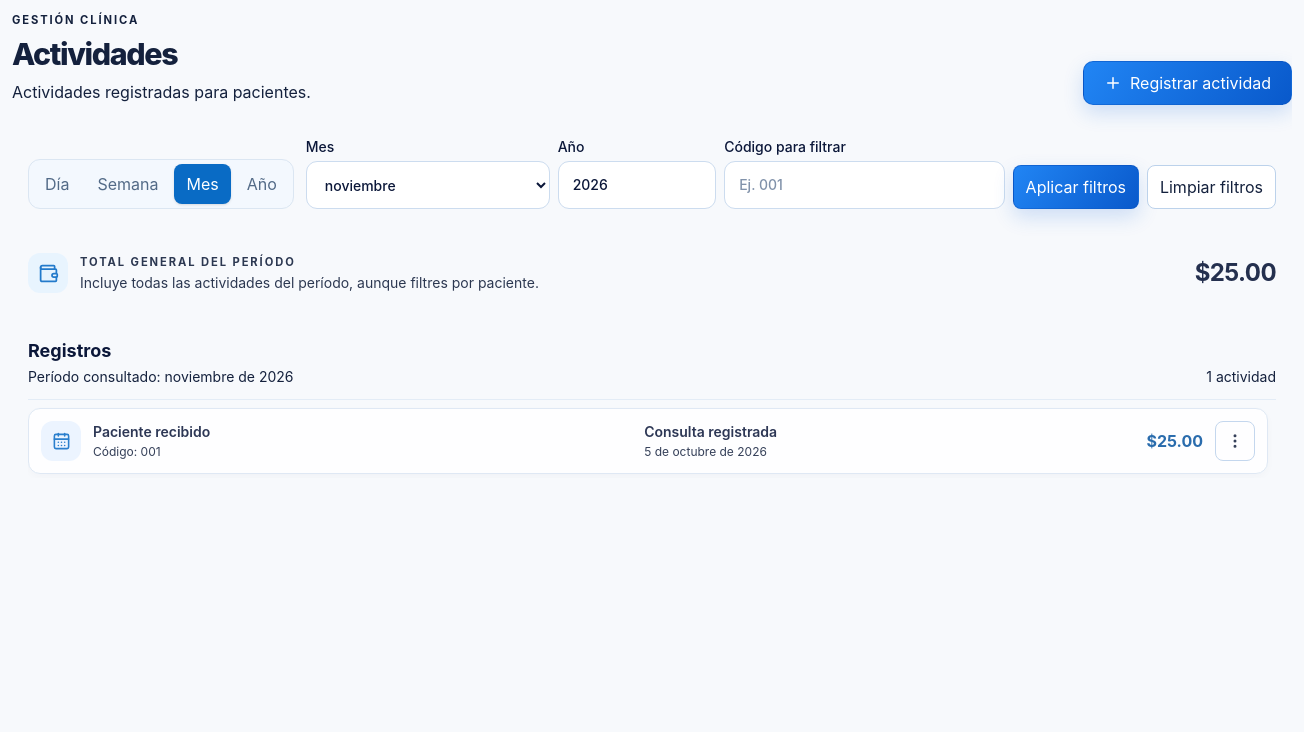
it: ActivitiesPage › opens the doctor action menu by keyboard and closes it with Escape
The image size is (1304, 732).
Expected: the text "Consulta registrada" is shown, [644,423,777,440]
Click the button named "Opciones de actividad para Paciente recibido".
click(1235, 441)  # box [1215,421,1255,461]
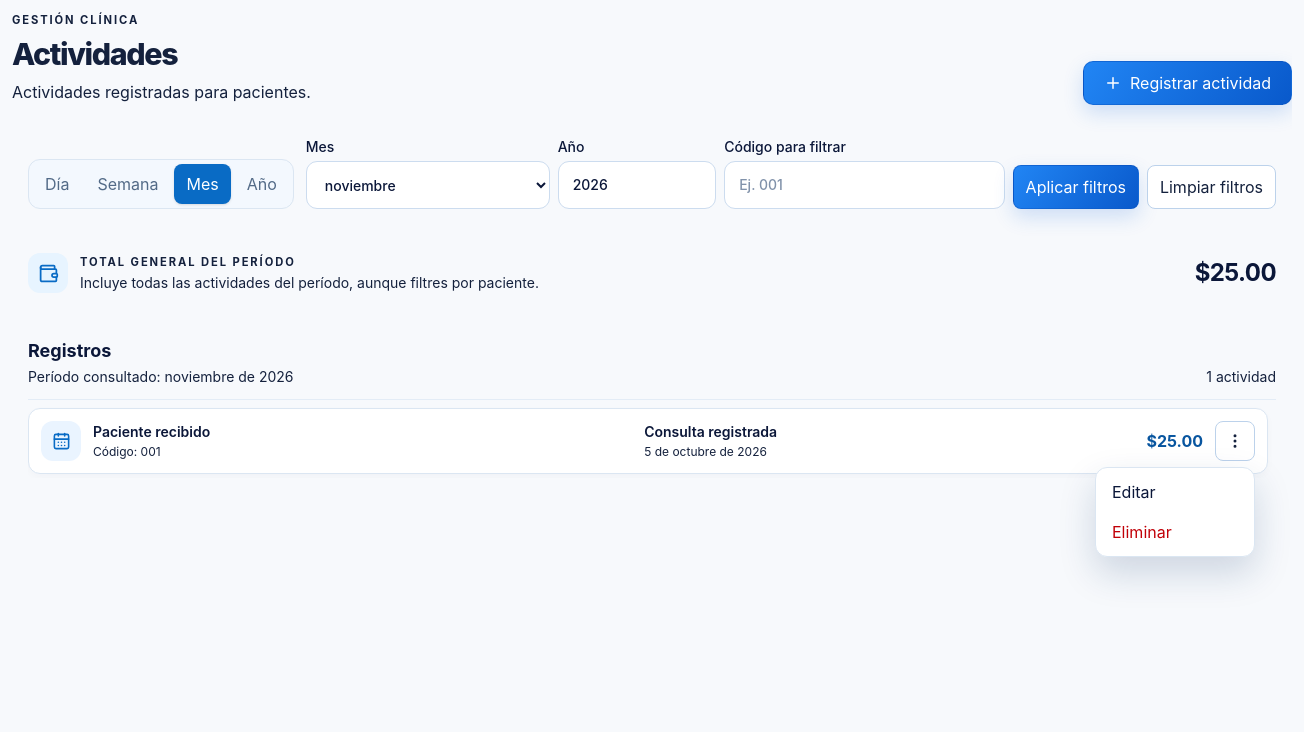
Press ArrowDown in the button named "Opciones de actividad para Paciente recibido", box [1215,421,1255,461]
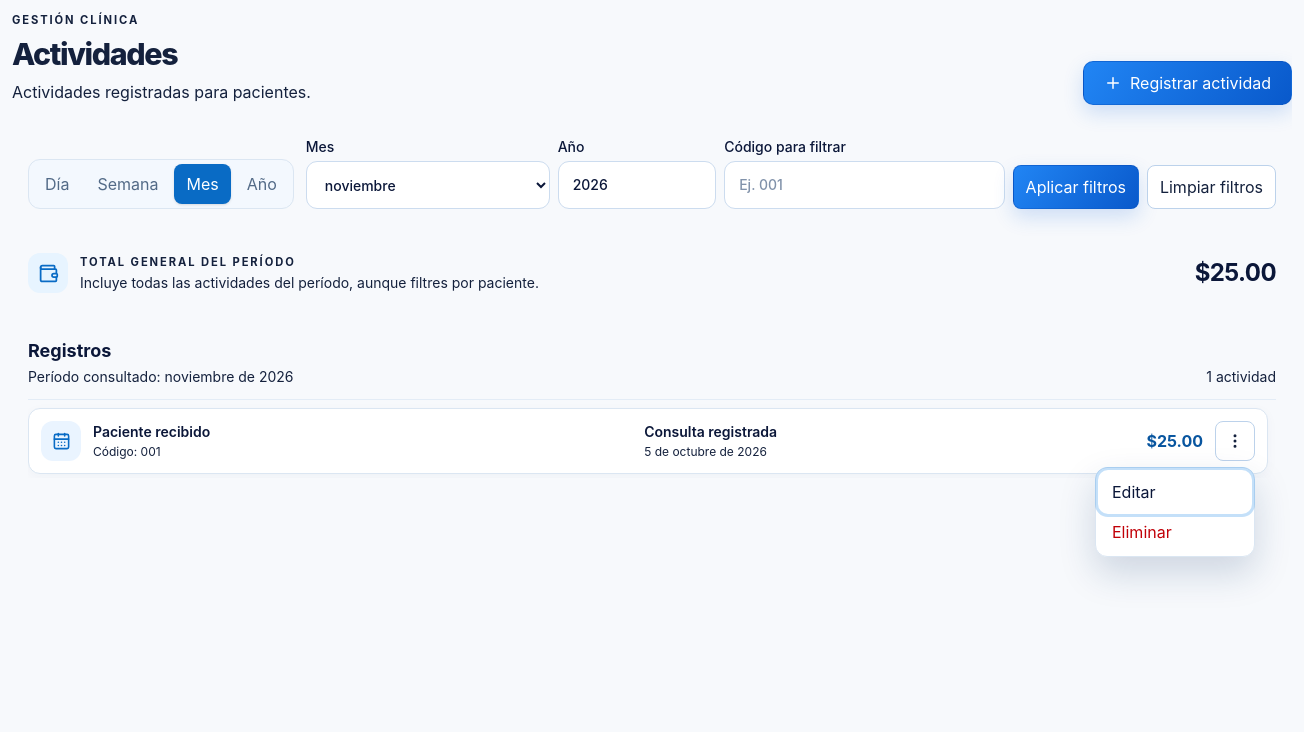
Press Escape in the menu item "Editar", box [1100,472,1250,512]
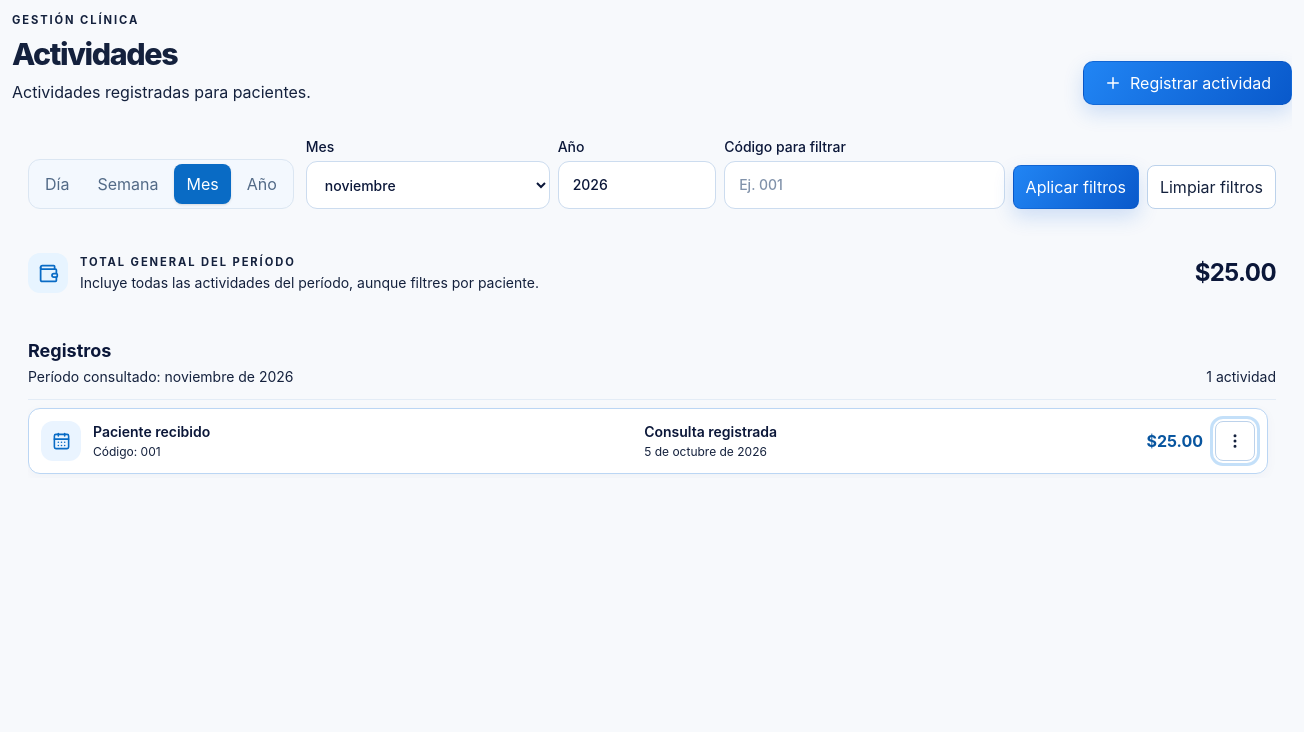
Now the menu is gone
